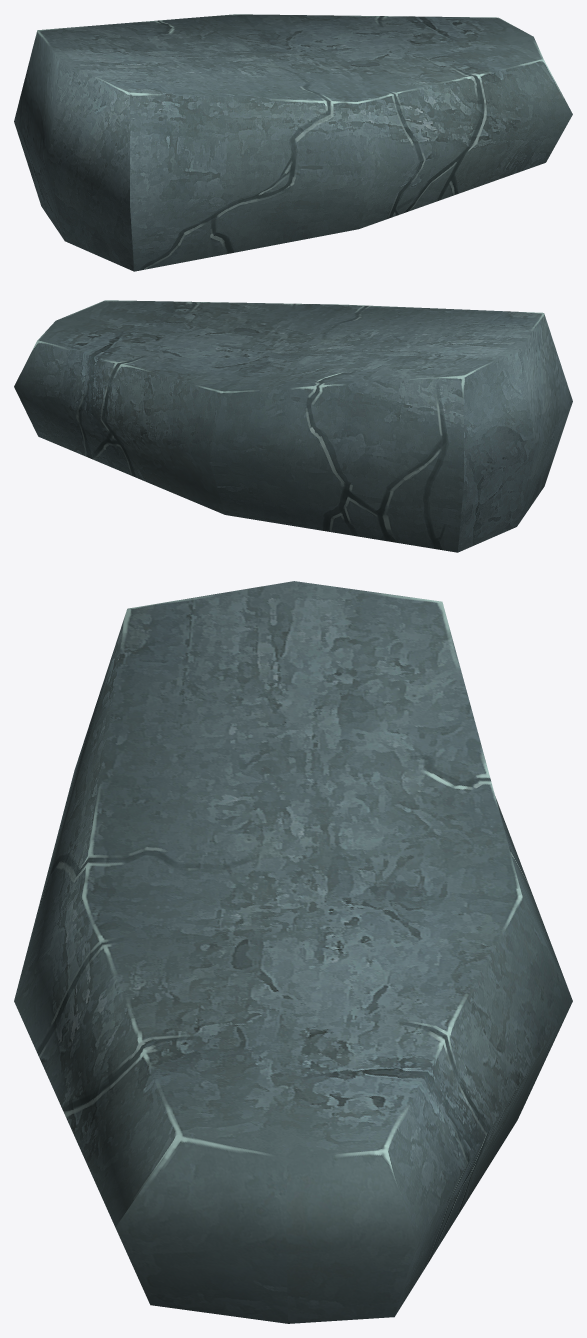
File: Rock_3.fbx
3 views of the same model, one above another, from view 1: azimuth 30°, elevation 25°; view 2: azimuth 150°, elevation 25°; view 3: azimuth 270°, elevation 25° (orthographic). The views are drawn at different scales.
Parts seen in each view (by area): view 1: pPlane2; view 2: pPlane2; view 3: pPlane2.
Part boxes in pixels (left/top/right/bottom): pPlane2: left=14, top=14, right=572, bottom=271; pPlane2: left=14, top=300, right=572, bottom=552; pPlane2: left=14, top=581, right=572, bottom=1323.
Size of the model in its own units: 6.45 by 2.24 by 3.45.
